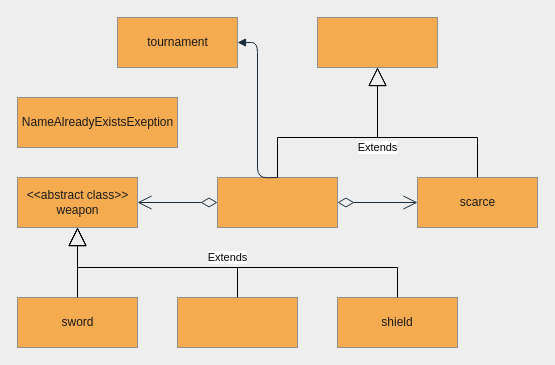
Some shapes in this 555 by 365 pixel diagram are drawn without their labels. Here are the shapes that lost their labels. From the top down, the centre of each, then its label:
pixel 377 42: <<abstract class>> person
pixel 277 202: knight
pixel 237 322: lance
